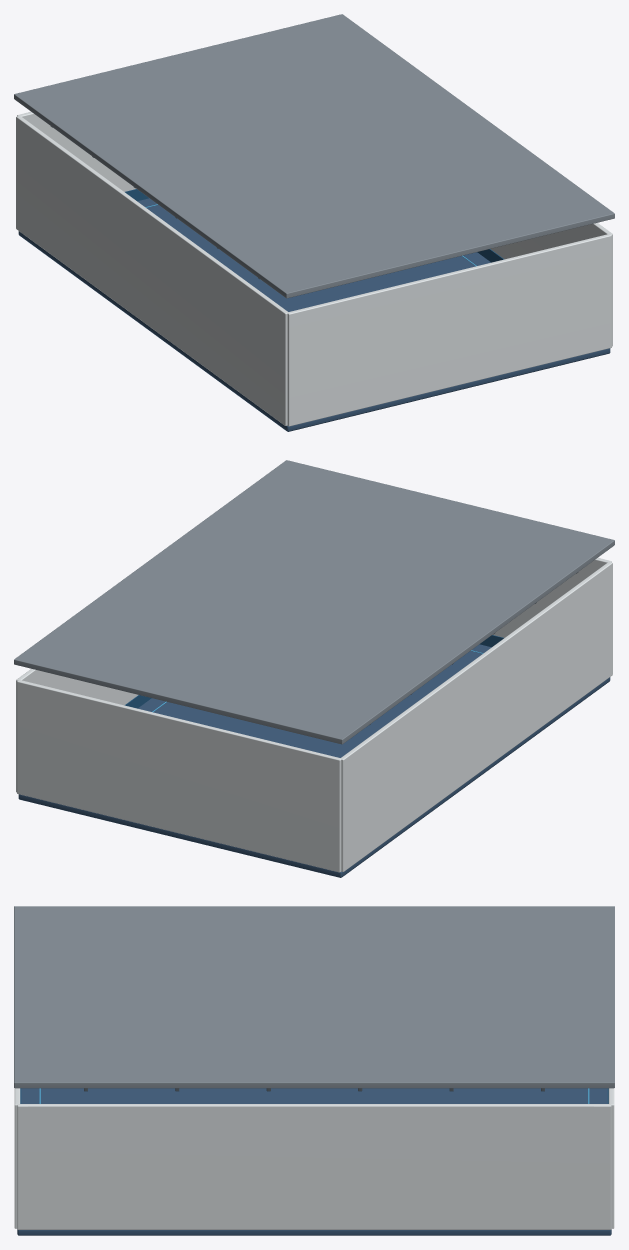
File: recinto.fbx
The picture shows the model from 3 angles, top to bottom: view 1: azimuth 30°, elevation 25°; view 2: azimuth 150°, elevation 25°; view 3: azimuth 270°, elevation 25°; orthographic projection. The views are drawn at different scales.
Parts seen in each view (by area): view 1: Techo_Interior, Pared_Entrada, Pared_Lateral_Izquierda, Suelo_Recinto, Pared_Lateral_Derecha, Pared_Fondo; view 2: Techo_Interior, Pared_Fondo, Pared_Lateral_Izquierda, Suelo_Recinto, Pared_Lateral_Derecha, Pared_Entrada; view 3: Techo_Interior, Pared_Lateral_Derecha, Suelo_Recinto, Pared_Entrada, Pared_Fondo.
Part boxes in pixels (x1,y1,x2,y2): Techo_Interior: (14, 14, 614, 298); Pared_Entrada: (287, 234, 611, 426); Pared_Lateral_Izquierda: (16, 116, 288, 425); Suelo_Recinto: (18, 198, 610, 431); Pared_Lateral_Derecha: (491, 223, 612, 346); Pared_Fondo: (17, 112, 136, 191); Techo_Interior: (14, 460, 614, 744); Pared_Fondo: (17, 680, 341, 872); Pared_Lateral_Izquierda: (341, 562, 612, 871); Suelo_Recinto: (18, 644, 610, 877); Pared_Lateral_Derecha: (16, 669, 137, 792); Pared_Entrada: (492, 558, 611, 637); Techo_Interior: (14, 906, 614, 1088); Pared_Lateral_Derecha: (17, 1104, 611, 1229); Suelo_Recinto: (17, 1088, 611, 1235); Pared_Entrada: (14, 1088, 20, 1228); Pared_Fondo: (608, 1088, 614, 1228).
Bounding box in the file's own units: 1830 × 750 × 2630.
